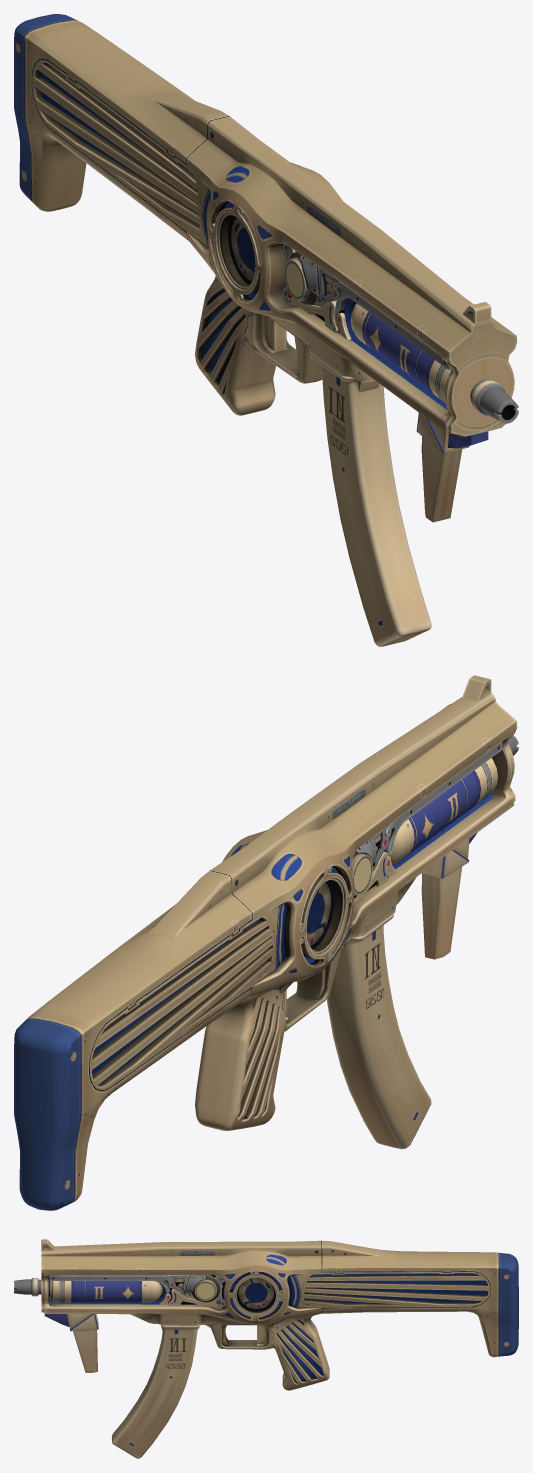
Rendered from raw.glb.
The picture shows the model from 3 angles, top to bottom: view 1: azimuth 30°, elevation 25°; view 2: azimuth 150°, elevation 25°; view 3: azimuth 270°, elevation 25°; orthographic projection. The views are drawn at different scales.
Visible parts, largest first — view 1: cw_SMG_SSR_Cla_S005_WL_lod0, cw_SMG_SSR_Cla_S005_Grip_WL_lod0, cw_SMG_SSR_Cla_S005_Silencer_WL_lod0; view 2: cw_SMG_SSR_Cla_S005_WL_lod0, cw_SMG_SSR_Cla_S005_Grip_WL_lod0; view 3: cw_SMG_SSR_Cla_S005_WL_lod0, cw_SMG_SSR_Cla_S005_Grip_WL_lod0, cw_SMG_SSR_Cla_S005_Silencer_WL_lod0.
Part boxes in pixels (x1,y1,x2,y2): cw_SMG_SSR_Cla_S005_WL_lod0: [14, 14, 517, 646]; cw_SMG_SSR_Cla_S005_Grip_WL_lod0: [416, 413, 488, 522]; cw_SMG_SSR_Cla_S005_Silencer_WL_lod0: [471, 380, 518, 423]; cw_SMG_SSR_Cla_S005_WL_lod0: [14, 675, 517, 1210]; cw_SMG_SSR_Cla_S005_Grip_WL_lod0: [421, 832, 477, 959]; cw_SMG_SSR_Cla_S005_WL_lod0: [38, 1239, 518, 1458]; cw_SMG_SSR_Cla_S005_Grip_WL_lod0: [44, 1314, 98, 1372]; cw_SMG_SSR_Cla_S005_Silencer_WL_lod0: [14, 1278, 38, 1296].
Bounding box in the file's own units: 0.0568 × 0.2403 × 0.5129.
2 materials, 2 textured.
